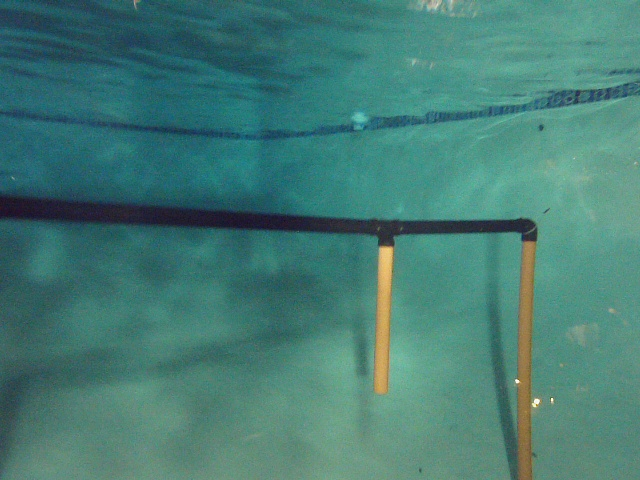Gate: (514, 238, 536, 479), (371, 243, 395, 399)
